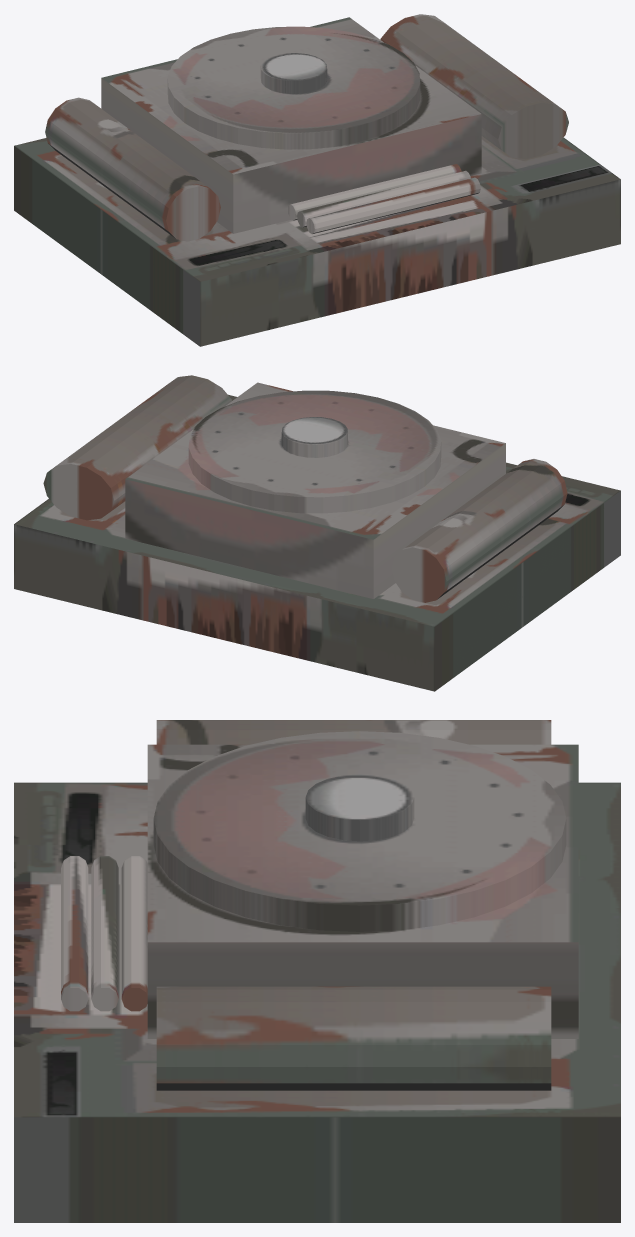
Rendered from Building_AncientLargeMechGestator.glb.
3 views of the same model, one above another, from view 1: azimuth 30°, elevation 25°; view 2: azimuth 150°, elevation 25°; view 3: azimuth 270°, elevation 25° (orthographic). The views are drawn at different scales.
Visible parts, largest first — view 1: AncientLargeMechGestator; view 2: AncientLargeMechGestator; view 3: AncientLargeMechGestator.
Part boxes in pixels (bbox=[...]): AncientLargeMechGestator: bbox=[14, 14, 620, 346]; AncientLargeMechGestator: bbox=[14, 375, 620, 691]; AncientLargeMechGestator: bbox=[14, 720, 620, 1222].
Size of the model in its own units: 4.08 by 1.42 by 3.12.
1 material, 1 textured.
